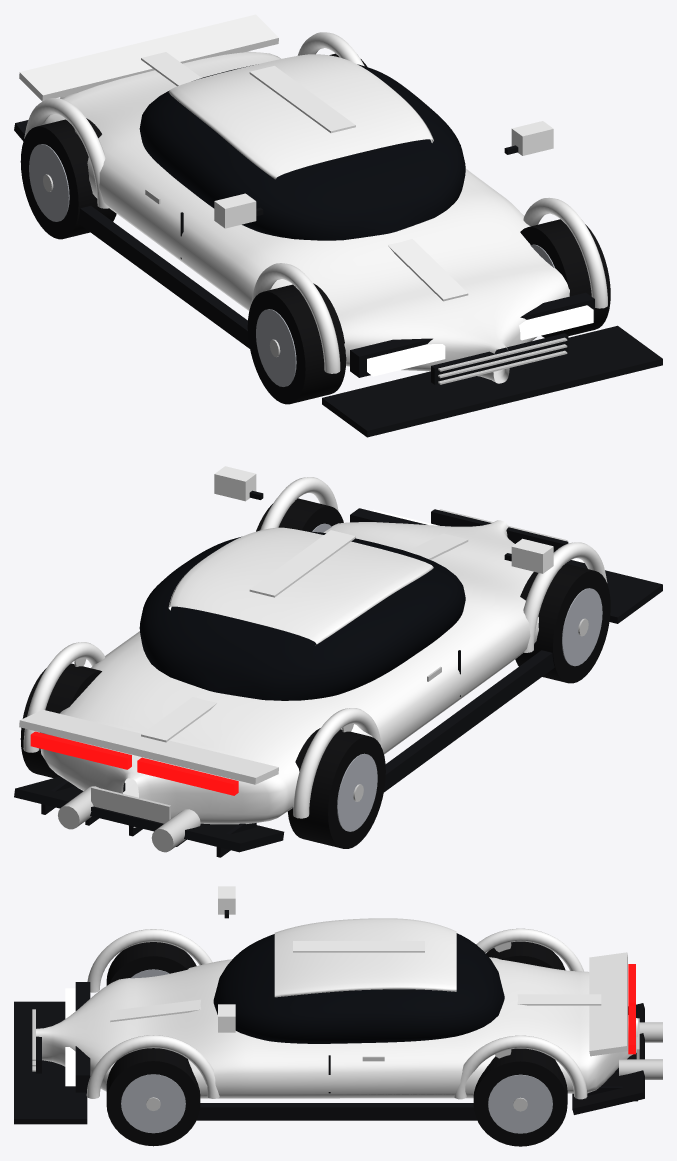
File: car_s86.glb
The picture shows the model from 3 angles, top to bottom: view 1: azimuth 30°, elevation 25°; view 2: azimuth 150°, elevation 25°; view 3: azimuth 270°, elevation 25°; orthographic projection. The views are drawn at different scales.
Visible parts, largest first — view 1: body, cabin, roof, tire (×3), splitter, duck, skirtR, rim (×2), flareR1.25, flareL1.25, stripe_r, flareR-1.25 (+10 smaller); view 2: body, cabin, roof, tire (×4), duck, skirtR, rim (×2), diffuser, flareR-1.25, stripe_r, flareR1.25, flareL-1.25 (+13 smaller); view 3: body, cabin, tire (×4), roof, rim (×2), splitter, skirtL, duck, flareL1.25, flareL-1.25, diffuser, flareR1.25 (+11 smaller).
Part boxes in pixels (x1,y1,x2,y2): body: (44,51,569,383); cabin: (139,64,465,240); roof: (168,54,433,179); tire (×3): (20,118,610,404); splitter: (322,325,662,437); duck: (19,14,278,101); skirtR: (78,206,249,348); rim (×2): (29,144,296,386); flareR1.25: (251,263,340,373); flareL1.25: (523,197,607,308); stripe_r: (249,66,355,133); flareR-1.25: (24,98,109,208); body: (40,520,538,827); cabin: (139,531,465,700); roof: (168,527,433,645); tire (×4): (20,498,610,848); duck: (19,709,278,784); skirtR: (384,650,554,792); rim (×2): (337,588,602,831); diffuser: (14,777,284,852); flareR-1.25: (293,708,382,818); stripe_r: (249,530,355,597); flareR1.25: (523,542,607,652); flareL-1.25: (23,642,105,752); body: (36,957,637,1098); cabin: (213,933,504,1043); tire (×4): (106,941,567,1146); roof: (274,918,456,997); rim (×2): (121,1074,552,1133); splitter: (14,1001,87,1124); skirtL: (196,1103,477,1120); duck: (589,952,627,1056); flareL1.25: (86,1035,219,1098); flareL-1.25: (454,1035,587,1099); diffuser: (572,1003,644,1114); flareR1.25: (87,929,212,992).
Bounding box in the file's own units: 2.1 × 1.05 × 4.42.
